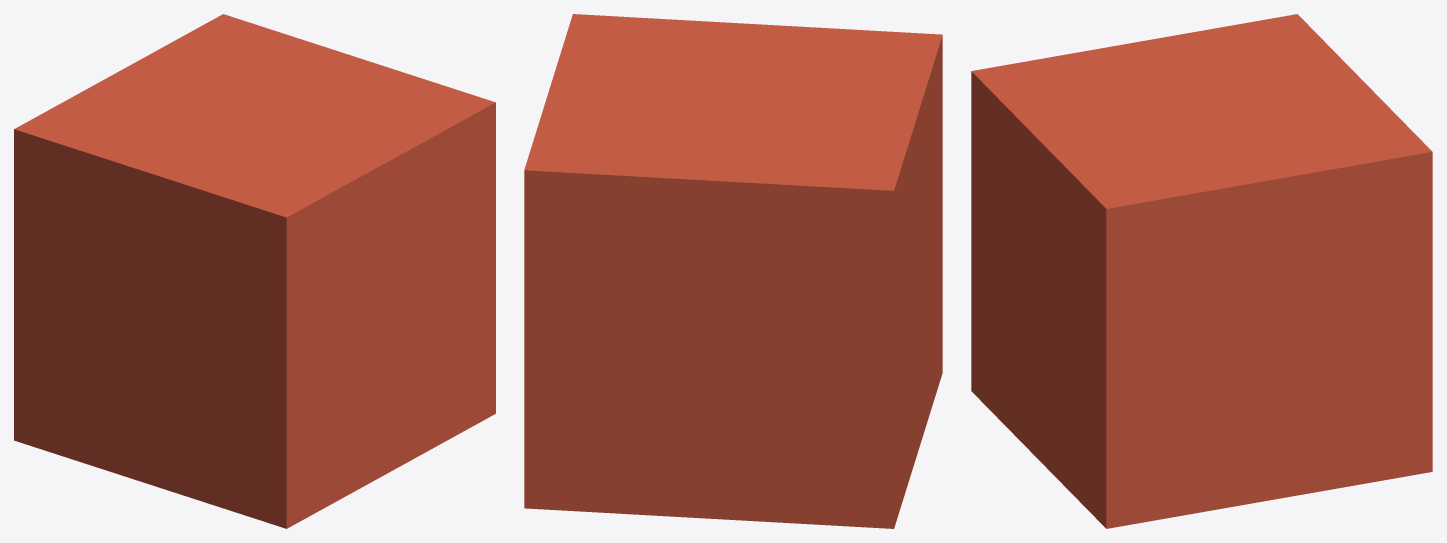
The model's file is other.glb.
The picture shows the model from 3 angles, left to right: view 1: azimuth 30°, elevation 25°; view 2: azimuth 150°, elevation 25°; view 3: azimuth 270°, elevation 25°; orthographic projection. The views are drawn at different scales.
Parts seen in each view (by area): view 1: other; view 2: other; view 3: other.
Boxes of the visible parts, x1,y1,x2,y2 form: other: (14,14,495,528); other: (524,14,942,528); other: (971,14,1432,528).
Size of the model in its own units: 1.31 by 1 by 1.31.
